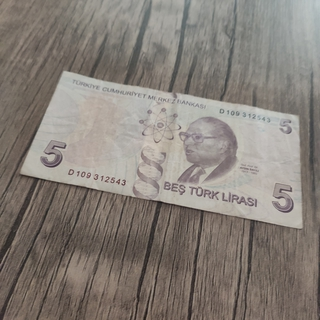5TLBack: (19, 69, 304, 229)
